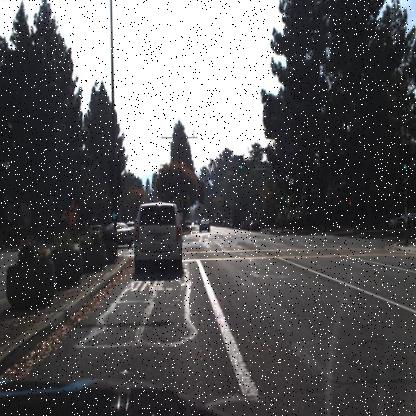car: (131, 200, 183, 273), (114, 216, 134, 250), (198, 214, 210, 235), (199, 216, 211, 235)
trafficLight-Green: (236, 152, 246, 172), (239, 156, 244, 172), (280, 187, 284, 201)
trafficLight-GreenLeft: (111, 198, 120, 223)
